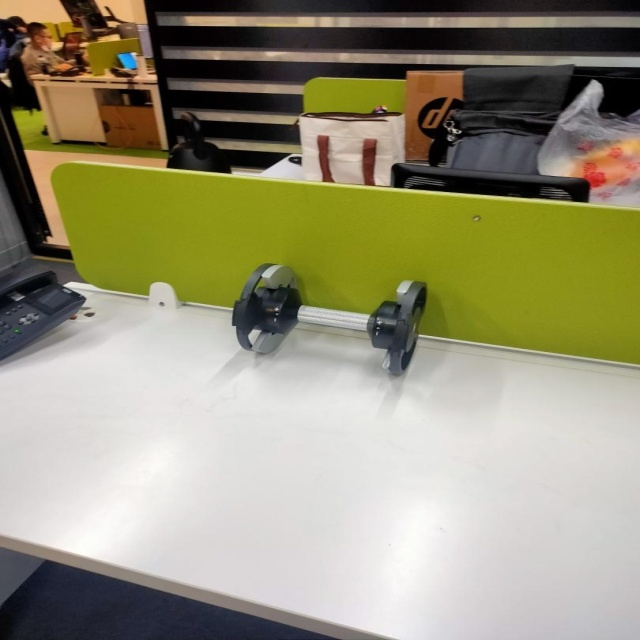02-4kg: (232, 262, 430, 377)
